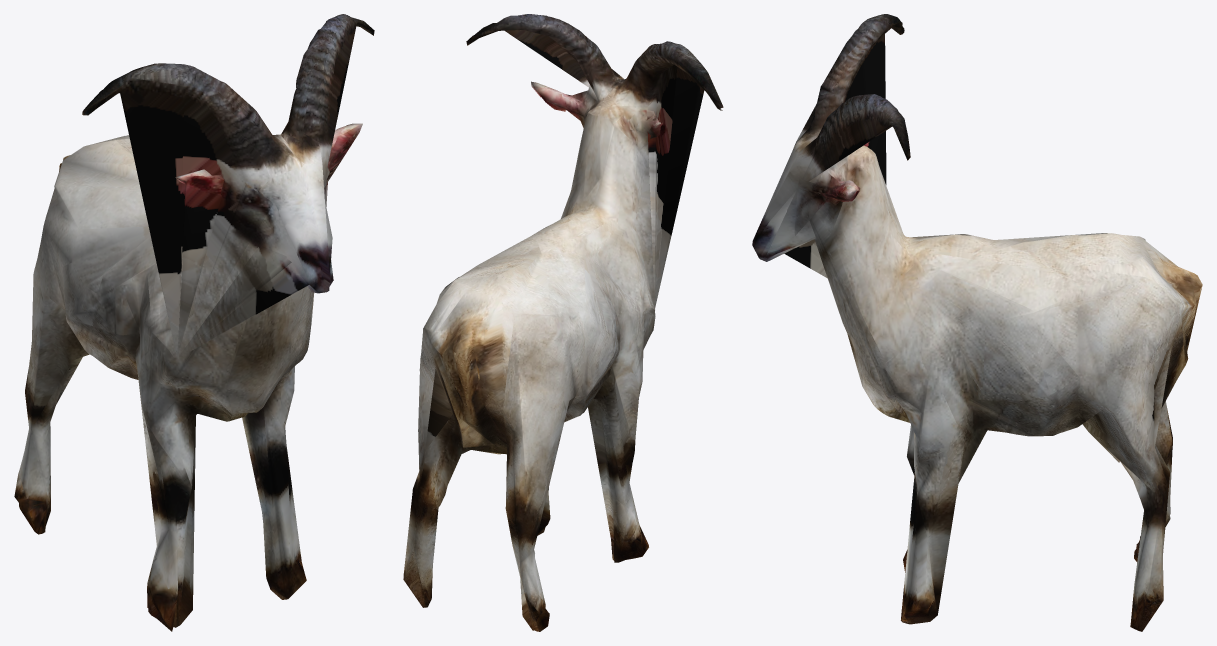
The model's file is gaot.fbx.
3 renders of one model, left to right at view 1: azimuth 30°, elevation 25°; view 2: azimuth 150°, elevation 25°; view 3: azimuth 270°, elevation 25°, orthographic. The views are drawn at different scales.
Parts seen in each view (by area): view 1: white-goat; view 2: white-goat; view 3: white-goat.
Boxes of the visible parts, bbox=[...] form: white-goat: bbox=[14, 14, 374, 631]; white-goat: bbox=[403, 14, 723, 631]; white-goat: bbox=[752, 14, 1202, 631].
Size of the model in its own units: 103 by 196 by 147.
Materials: 1 (1 with a texture image).
